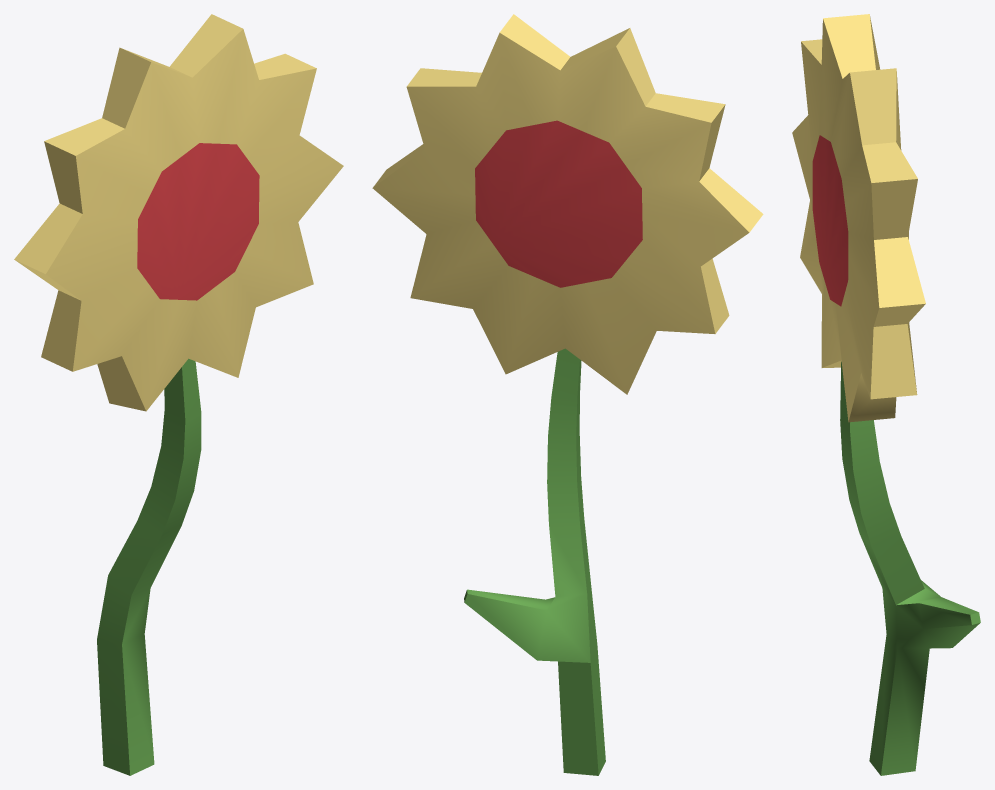
File: Blume1.fbx
The picture shows the model from 3 angles, left to right: view 1: azimuth 30°, elevation 25°; view 2: azimuth 150°, elevation 25°; view 3: azimuth 270°, elevation 25°; orthographic projection. The views are drawn at different scales.
Visible parts, largest first — view 1: Blume3; view 2: Blume3; view 3: Blume3.
Part boxes in pixels (left/top/right/bottom): Blume3: left=14, top=14, right=343, bottom=775; Blume3: left=372, top=14, right=763, bottom=775; Blume3: left=792, top=14, right=980, bottom=775.
Bounding box in the file's own units: 130 × 259 × 59.76.
